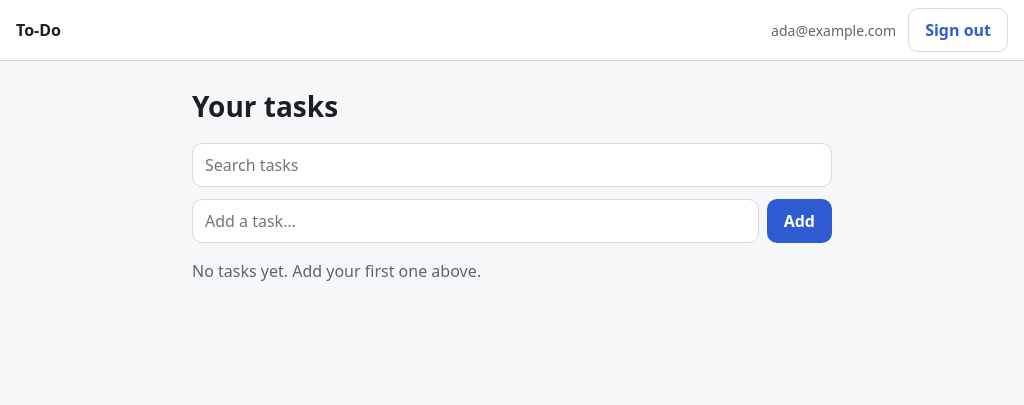
Test: routing and authentication › shows who is signed in and signs out
Expected: the text "ada@example.com" is shown, x1=771 y1=20 x2=896 y2=40
Click the button "Sign out" at {"x": 958, "y": 30}, box x1=908 y1=8 x2=1008 y2=52
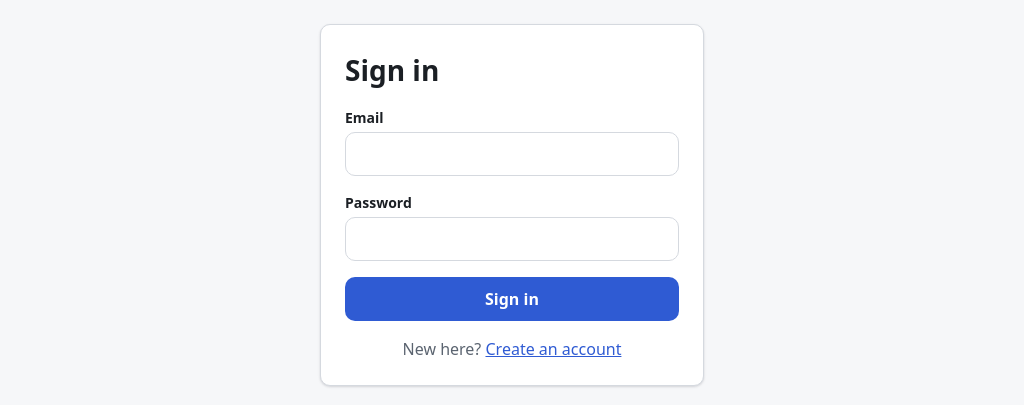
Now the heading "Sign in" is shown, box x1=345 y1=51 x2=439 y2=89
